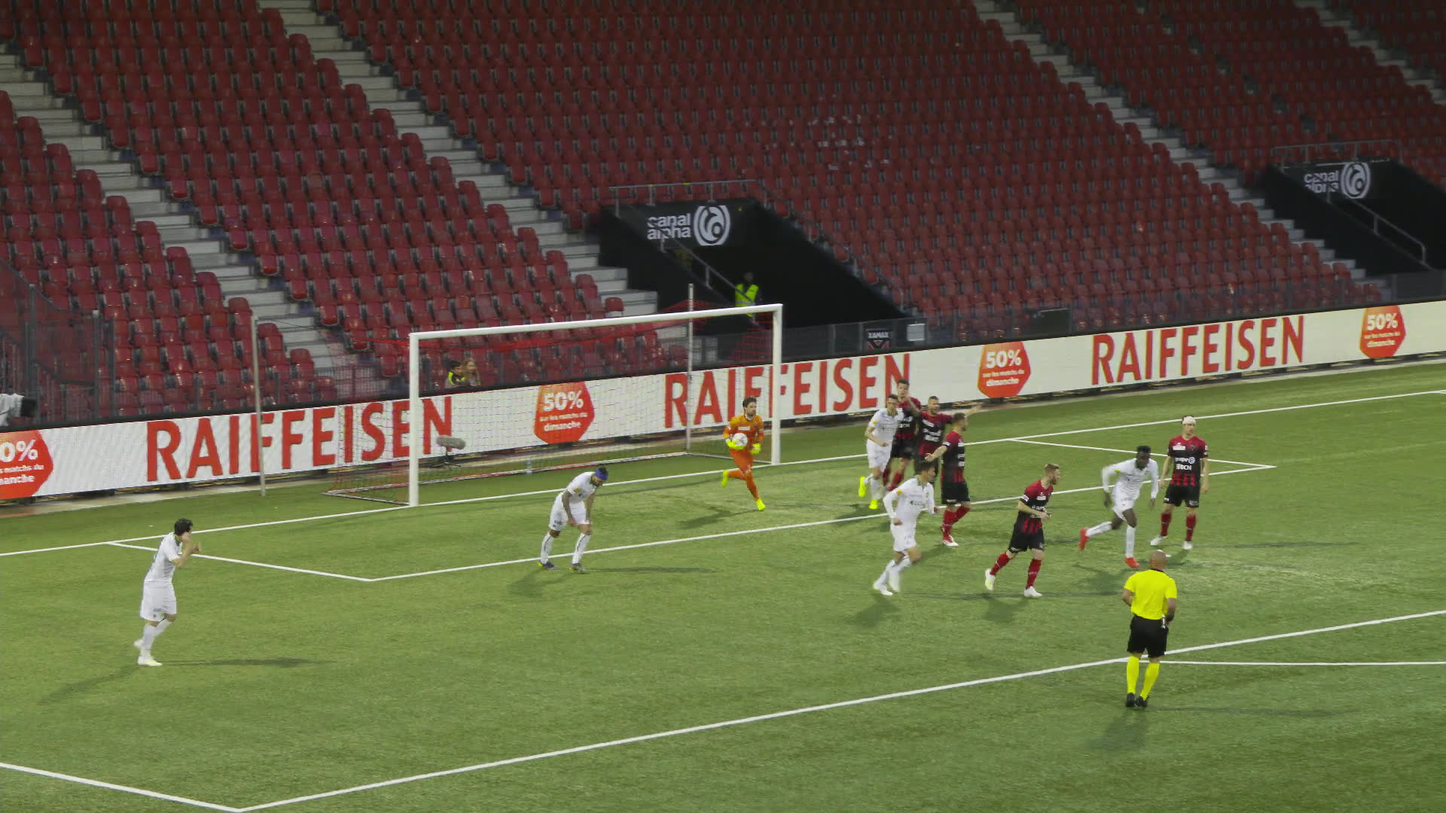ball: (731, 433, 747, 445)
player: (119, 521, 204, 666), (865, 457, 937, 599), (906, 391, 984, 513), (992, 466, 1056, 596), (1089, 447, 1158, 565), (1155, 414, 1209, 550), (541, 462, 607, 572), (922, 413, 974, 547), (857, 393, 906, 507), (880, 383, 926, 501), (719, 399, 764, 507)
referee: (1110, 555, 1178, 711)
